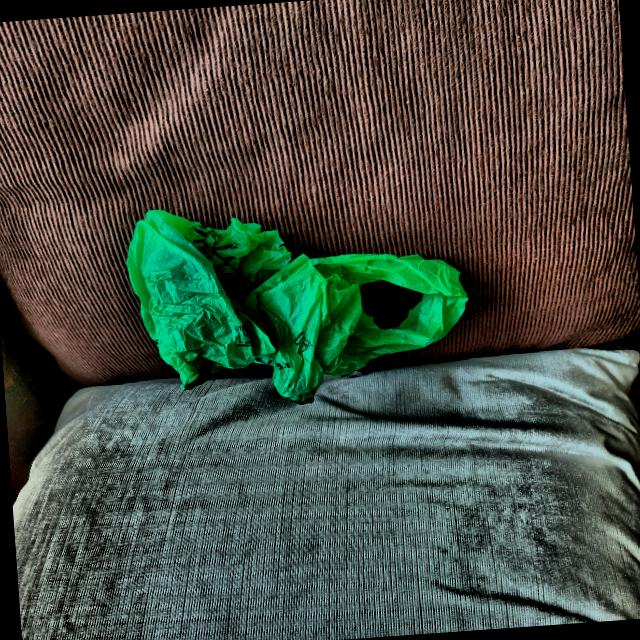plastic bag: (124, 189, 477, 418)
